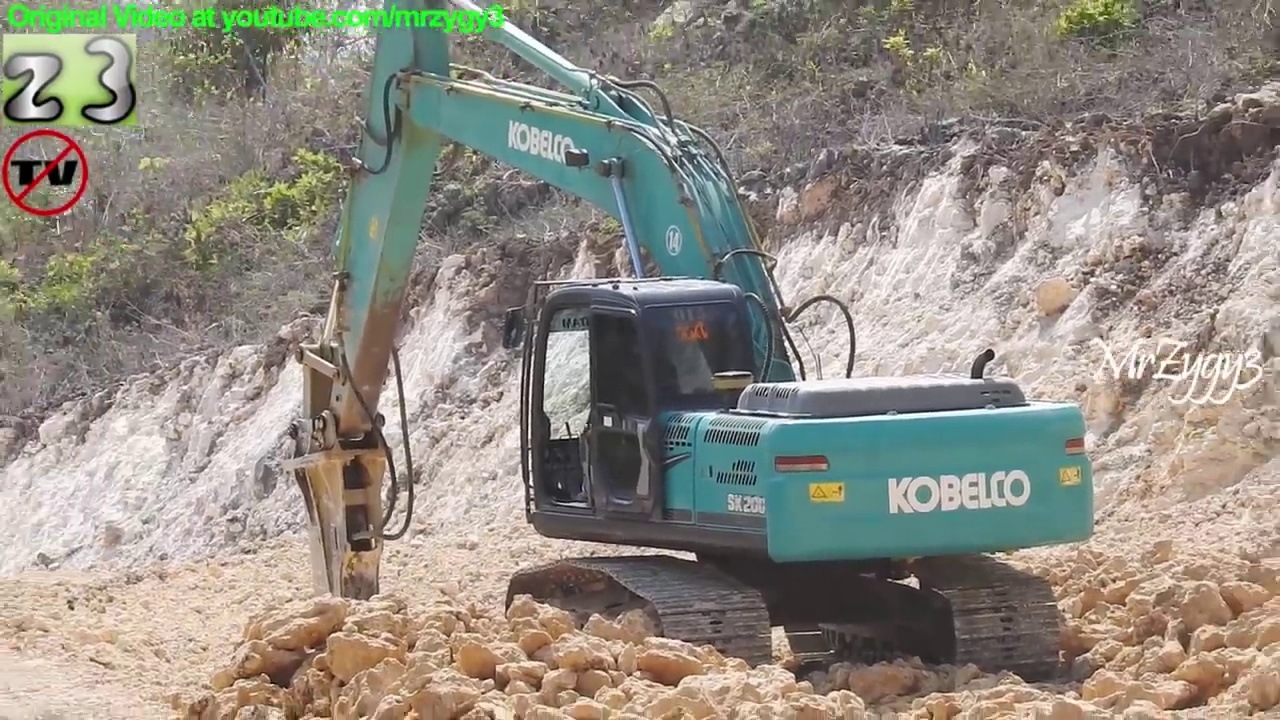excavator breaker: (271, 1, 1107, 702)
